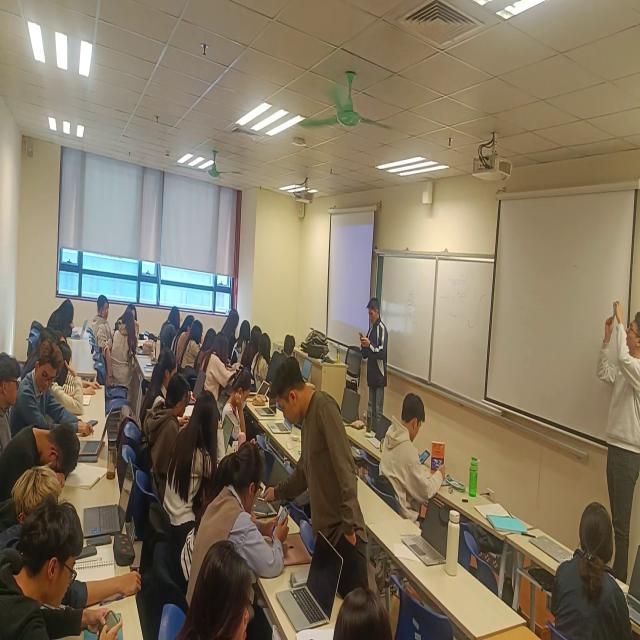raise_head: (539, 504, 631, 640), (1, 344, 21, 447)
sleep: (46, 294, 78, 343)
stand: (268, 351, 370, 606), (592, 286, 640, 577), (357, 290, 392, 434)
using_phone: (1, 495, 127, 640), (194, 440, 294, 576), (381, 385, 445, 520)
